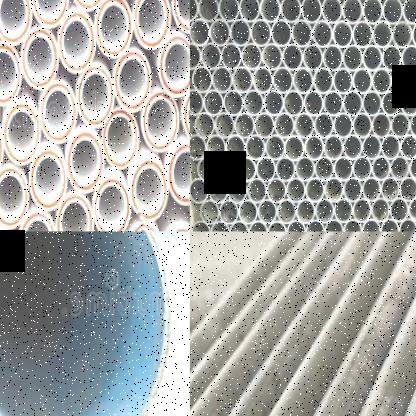pipe: (0, 231, 170, 416), (76, 64, 115, 128), (130, 158, 169, 222), (3, 101, 41, 166), (20, 27, 59, 90), (58, 10, 96, 74), (67, 130, 105, 194), (29, 147, 67, 211), (113, 50, 152, 112), (39, 81, 77, 144), (102, 106, 139, 170), (142, 90, 179, 153), (95, 0, 132, 58), (93, 176, 131, 231), (158, 34, 190, 97), (133, 0, 171, 49), (0, 166, 29, 228), (55, 193, 94, 232), (167, 142, 190, 205), (0, 0, 32, 45), (0, 43, 22, 106), (30, 0, 69, 28), (18, 210, 57, 232), (291, 18, 313, 48), (261, 42, 283, 71), (311, 19, 333, 48), (200, 42, 222, 70), (302, 43, 324, 71), (272, 66, 294, 94), (172, 0, 190, 34), (282, 43, 303, 72), (230, 18, 251, 47), (251, 18, 272, 47), (271, 18, 292, 47), (332, 19, 353, 48), (243, 89, 265, 116), (221, 42, 242, 70), (241, 42, 262, 70), (210, 18, 231, 46), (372, 20, 393, 48), (352, 20, 373, 48), (192, 65, 212, 94), (392, 20, 412, 49), (342, 44, 363, 71), (212, 66, 233, 93), (232, 66, 253, 93), (252, 66, 273, 93), (352, 67, 373, 94), (223, 89, 244, 116), (274, 112, 295, 139), (254, 112, 275, 139), (313, 112, 334, 139), (294, 112, 315, 139), (323, 43, 343, 71), (293, 66, 313, 94), (190, 17, 209, 46), (263, 90, 284, 116), (303, 90, 324, 116), (381, 90, 402, 116), (382, 44, 402, 71), (313, 67, 333, 94), (333, 67, 353, 94), (372, 67, 392, 94), (204, 89, 224, 116), (235, 112, 255, 139), (267, 177, 287, 204), (284, 135, 305, 160), (314, 156, 335, 181), (342, 0, 363, 25), (284, 90, 304, 116), (324, 134, 344, 160), (206, 134, 226, 160), (304, 134, 324, 160), (390, 155, 410, 181), (352, 155, 372, 181), (286, 177, 306, 203), (352, 197, 372, 223), (363, 44, 382, 71), (363, 90, 382, 117), (334, 112, 353, 139), (209, 177, 228, 204), (200, 198, 219, 225), (220, 198, 239, 225), (300, 0, 322, 23), (320, 0, 342, 23), (352, 113, 372, 138), (324, 177, 344, 202), (363, 0, 383, 25), (382, 0, 402, 25), (324, 90, 343, 116), (343, 90, 362, 116), (372, 112, 391, 138), (196, 112, 215, 138), (391, 112, 410, 138), (246, 134, 265, 160), (226, 134, 245, 160), (372, 155, 391, 181), (276, 156, 295, 182), (256, 156, 275, 182), (198, 156, 217, 182), (237, 156, 256, 182), (217, 156, 236, 182), (381, 176, 400, 202), (362, 176, 381, 202), (228, 178, 247, 204), (334, 197, 353, 223), (258, 198, 277, 224), (392, 67, 410, 94), (216, 112, 234, 139), (248, 177, 266, 204), (238, 0, 260, 22), (362, 134, 381, 159), (334, 156, 353, 181), (390, 197, 409, 222), (296, 198, 315, 223), (239, 199, 258, 224), (344, 134, 362, 160), (266, 134, 284, 160), (306, 177, 324, 203), (190, 177, 208, 203), (278, 198, 296, 224), (197, 0, 218, 22), (218, 0, 239, 22), (259, 0, 280, 22), (280, 0, 301, 22), (382, 134, 400, 159), (296, 156, 314, 181), (344, 177, 362, 202), (316, 198, 334, 223), (399, 176, 416, 202), (68, 0, 108, 11), (190, 133, 206, 160), (372, 198, 390, 222), (400, 133, 416, 159), (401, 44, 416, 71), (401, 90, 416, 116), (190, 89, 204, 115), (402, 0, 416, 25), (324, 218, 344, 232), (399, 216, 416, 232), (190, 42, 200, 69), (380, 218, 399, 232), (306, 218, 325, 232), (287, 218, 306, 232), (362, 218, 380, 232), (344, 218, 362, 232), (407, 197, 416, 222), (267, 220, 287, 231), (249, 220, 268, 231), (210, 220, 229, 231), (408, 154, 416, 180), (230, 220, 248, 231), (0, 118, 3, 182), (192, 221, 211, 231), (189, 0, 198, 21), (409, 111, 416, 137), (410, 66, 416, 93), (411, 20, 416, 47)
